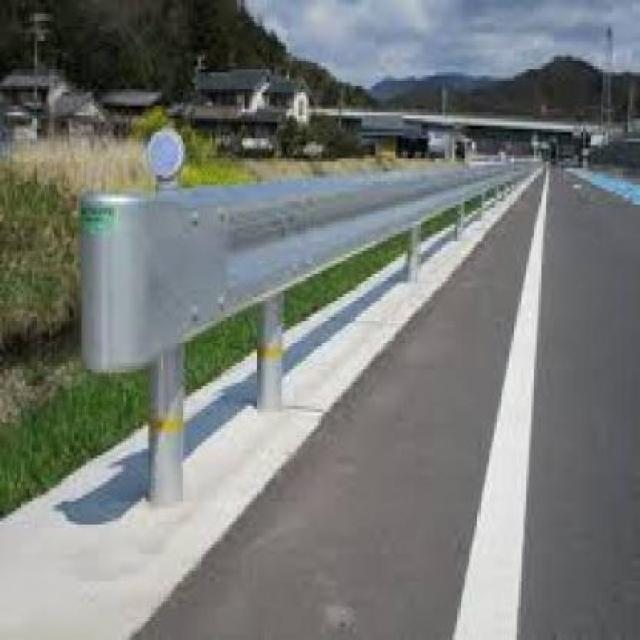Guard rail: (78, 121, 547, 528)
